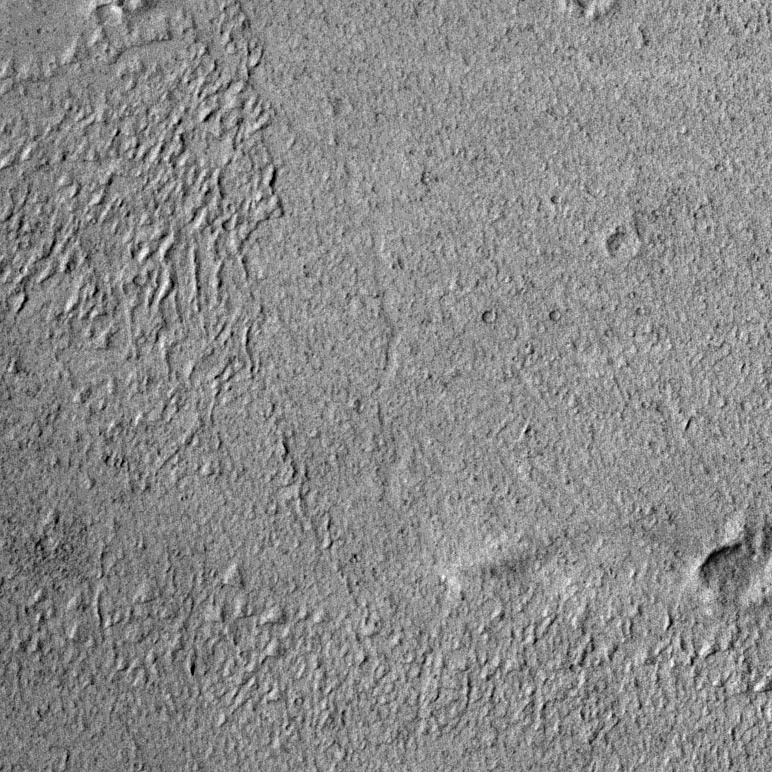dust_devil: (439, 533, 560, 594)
